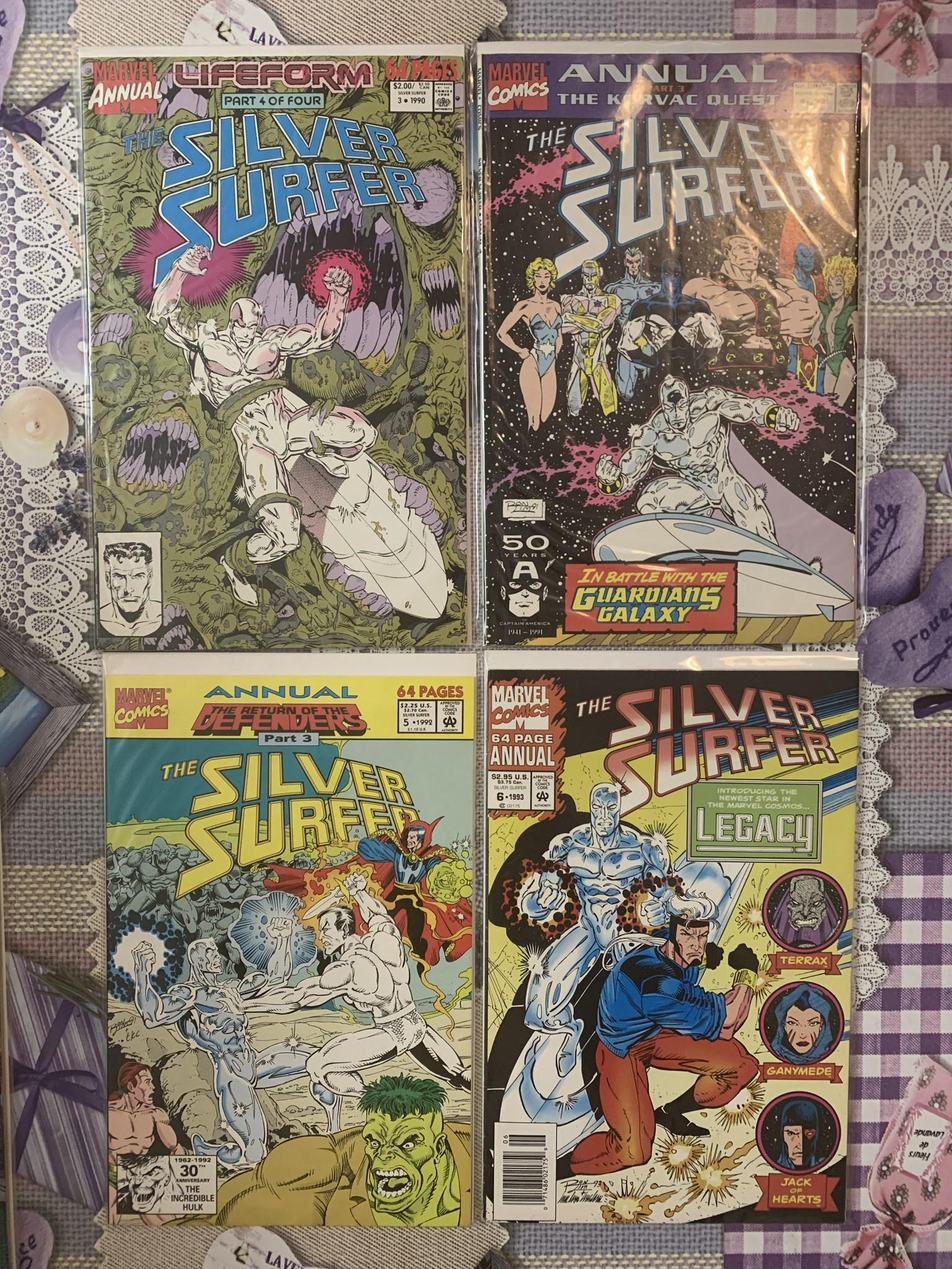comic: (80, 44, 470, 652), (478, 41, 866, 646), (484, 650, 857, 1223), (106, 654, 475, 1226)
